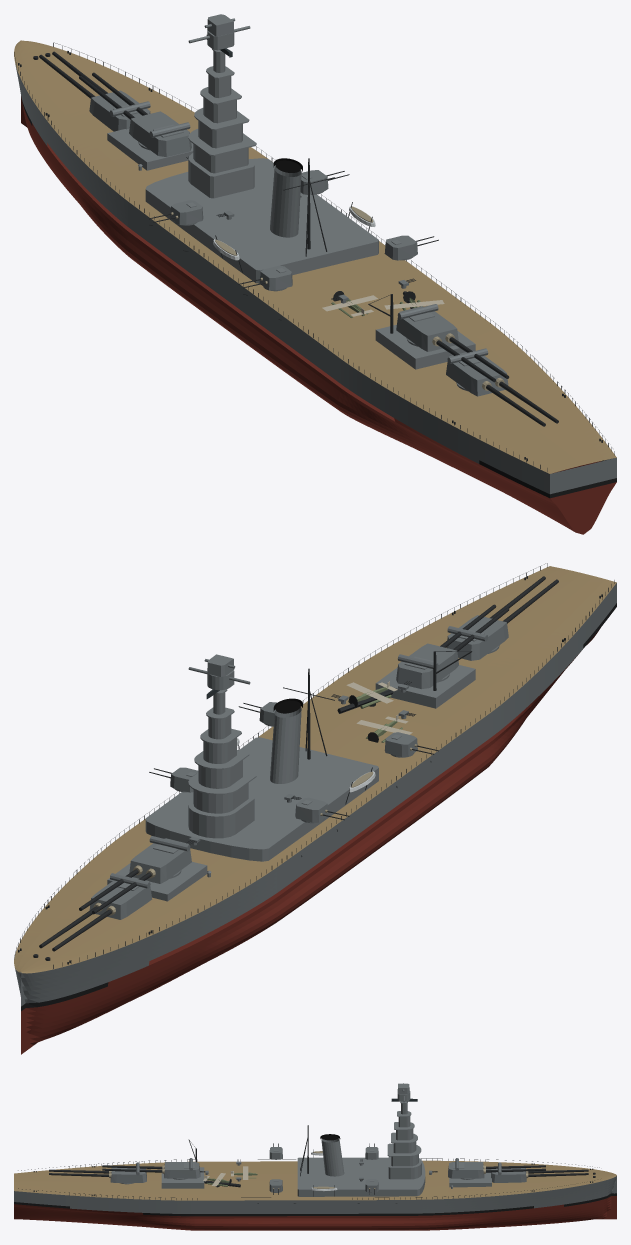
Rendered from nagato.glb.
The picture shows the model from 3 angles, top to bottom: view 1: azimuth 30°, elevation 25°; view 2: azimuth 150°, elevation 25°; view 3: azimuth 270°, elevation 25°; orthographic projection. The views are drawn at different scales.
Parts seen in each view (by area): view 1: Hull, Turret2, Turret3, Turret4, Turret1, Mount2, Mount4, Mount3; view 2: Hull, Turret2, Turret3, Turret4, Turret1, Mount4, Mount2; view 3: Hull, Turret3, Turret2, Turret4, Turret1.
Boxes of the visible parts, x1,y1,x2,y2 form: Hull: (14, 26, 616, 534); Turret2: (79, 72, 191, 156); Turret3: (396, 304, 509, 382); Turret4: (446, 348, 558, 426); Turret1: (39, 51, 150, 131); Mount2: (149, 200, 203, 225); Mount4: (238, 265, 292, 291); Mount3: (384, 235, 438, 260); Hull: (14, 563, 616, 1054); Turret2: (79, 836, 191, 914); Turret3: (396, 604, 509, 689); Turret4: (446, 576, 558, 660); Turret1: (39, 873, 152, 951); Mount4: (384, 732, 438, 757); Mount2: (295, 797, 349, 823); Hull: (14, 1091, 616, 1230); Turret3: (102, 1158, 200, 1179); Turret2: (448, 1158, 545, 1179); Turret4: (49, 1162, 146, 1184); Turret1: (491, 1162, 588, 1182).
Bounding box in the file's own units: 45.4 × 55.27 × 226.
